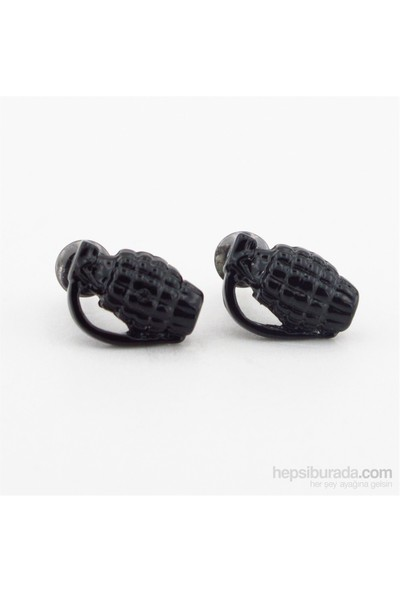e1: (213, 230, 360, 338), (56, 240, 202, 343)
